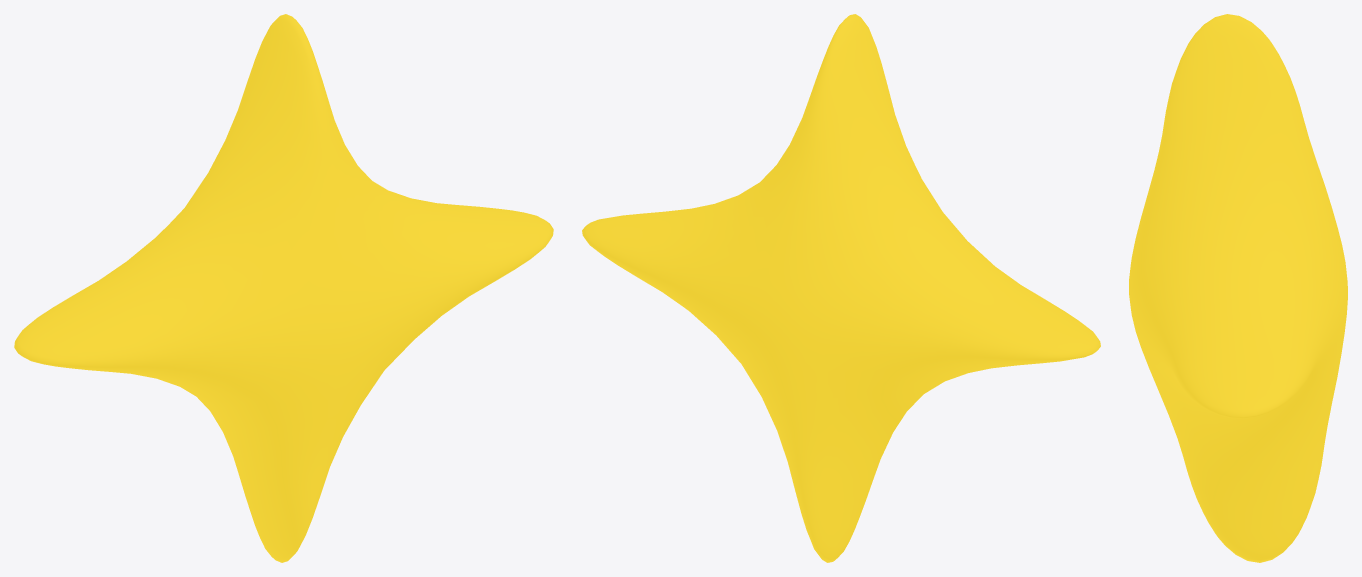
The model's file is star.glb.
3 renders of one model, left to right at view 1: azimuth 30°, elevation 25°; view 2: azimuth 150°, elevation 25°; view 3: azimuth 270°, elevation 25°, orthographic. The views are drawn at different scales.
Visible parts, largest first — view 1: Plane; view 2: Plane; view 3: Plane.
Boxes of the visible parts, <box> form: Plane: <box>14,14,553,562</box>; Plane: <box>582,14,1100,562</box>; Plane: <box>1129,14,1347,562</box>.
Bounding box in the file's own units: 1.32 × 1.32 × 0.4769.
